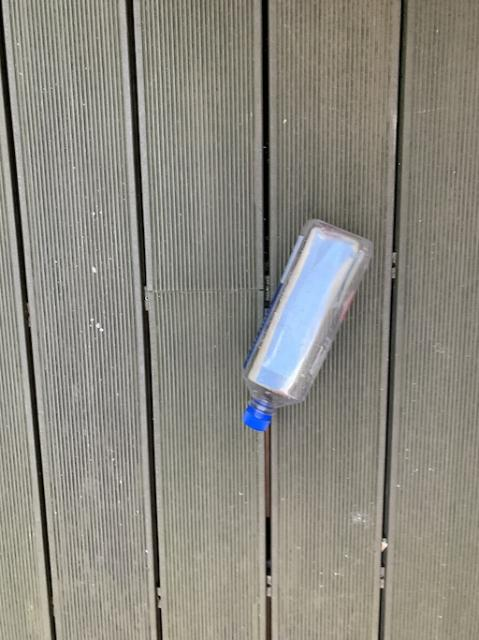plastic: (243, 218, 371, 429)
